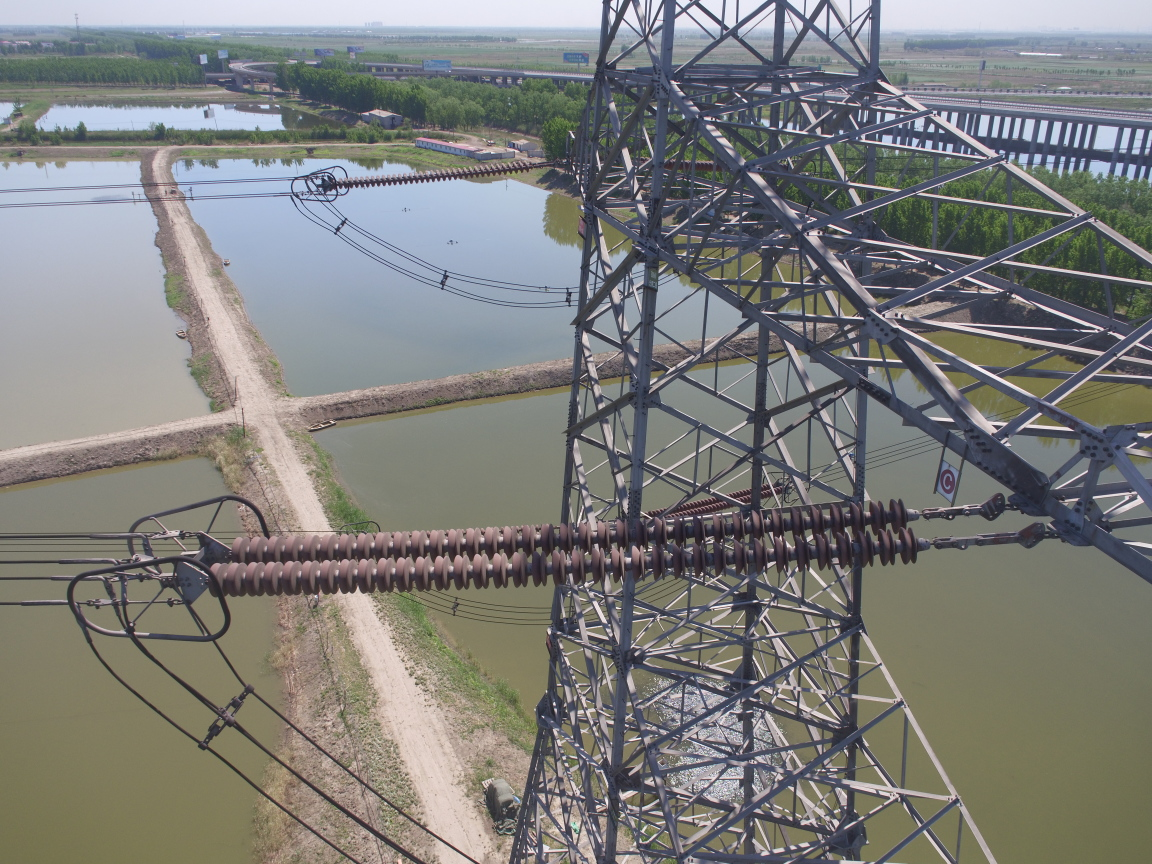insulator: (195, 493, 970, 602), (327, 155, 546, 193)
